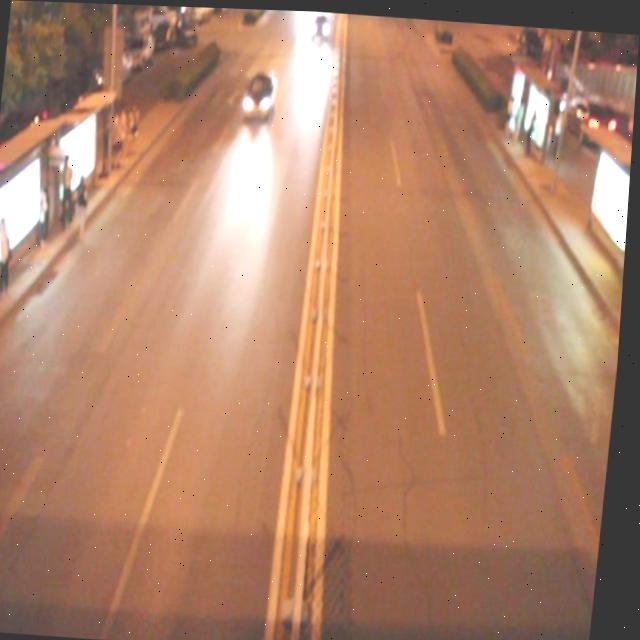car: (242, 66, 278, 117)
